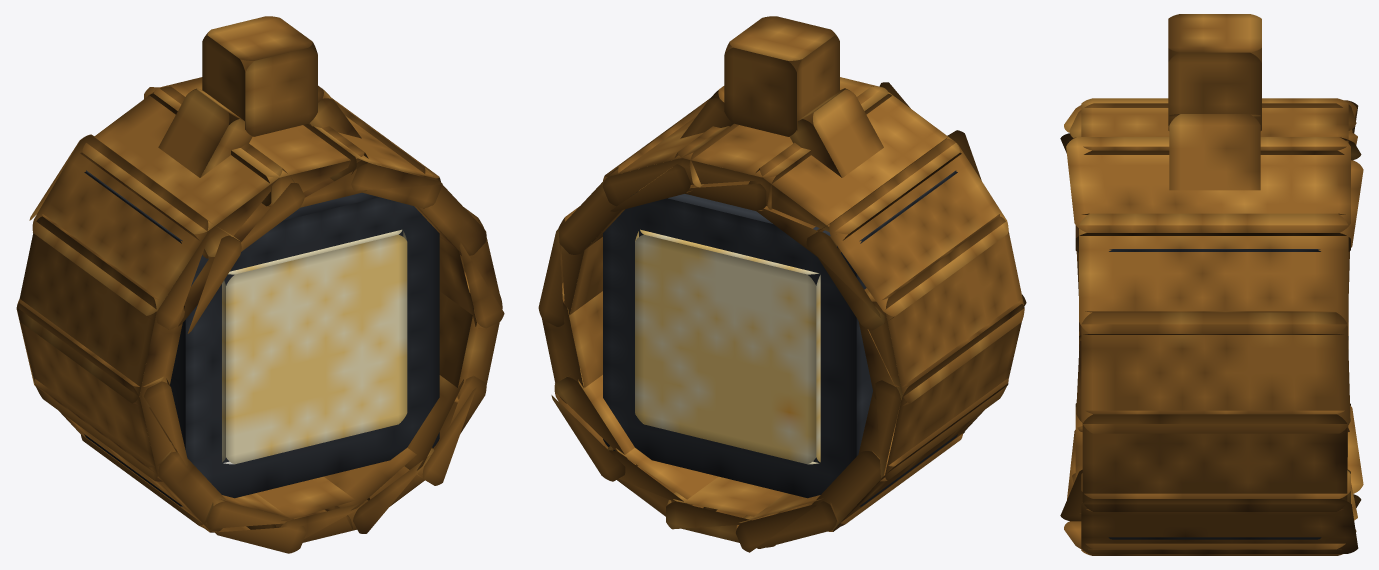
Rendered from horologes_heart.obj.
The picture shows the model from 3 angles, left to right: view 1: azimuth 30°, elevation 25°; view 2: azimuth 150°, elevation 25°; view 3: azimuth 270°, elevation 25°; orthographic projection. The views are drawn at different scales.
Parts seen in each view (by area): view 1: lit, fire; view 2: lit, fire; view 3: lit.
Boxes of the visible parts, x1,y1,x2,y2 form: lit: (16,16,504,553); fire: (222,229,407,464); lit: (538,16,1026,552); fire: (635,229,820,464); lit: (1060,14,1363,555).
Size of the model in its own units: 0.6337 by 0.7563 by 0.4201.
